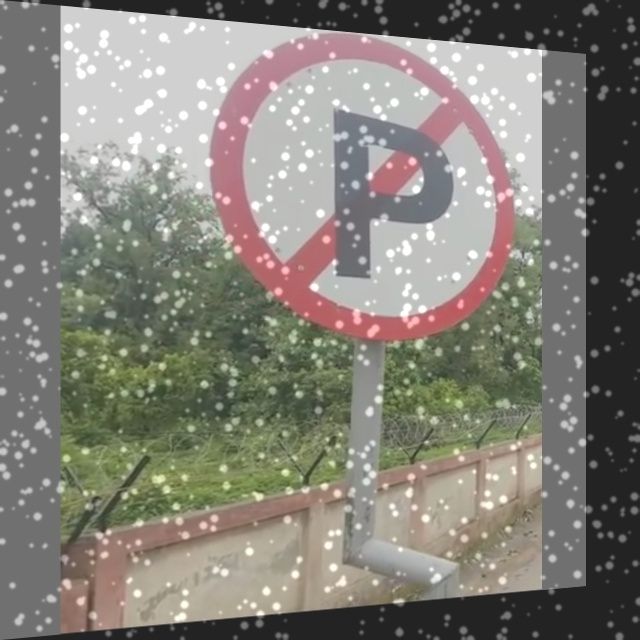No_Parking: (219, 27, 510, 334)
